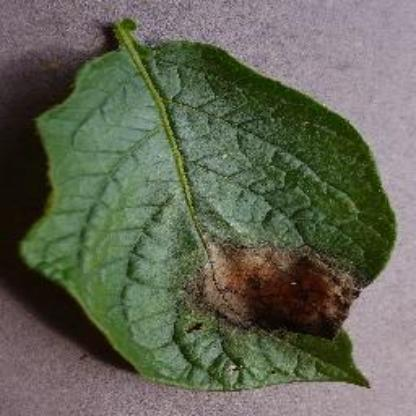Late-Blight: (17, 13, 396, 392)
